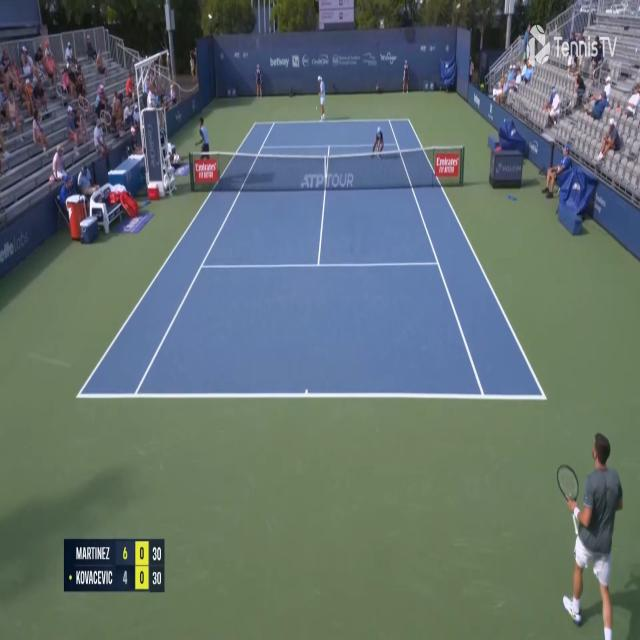tennis-player: (556, 426, 637, 635), (315, 74, 326, 122)
